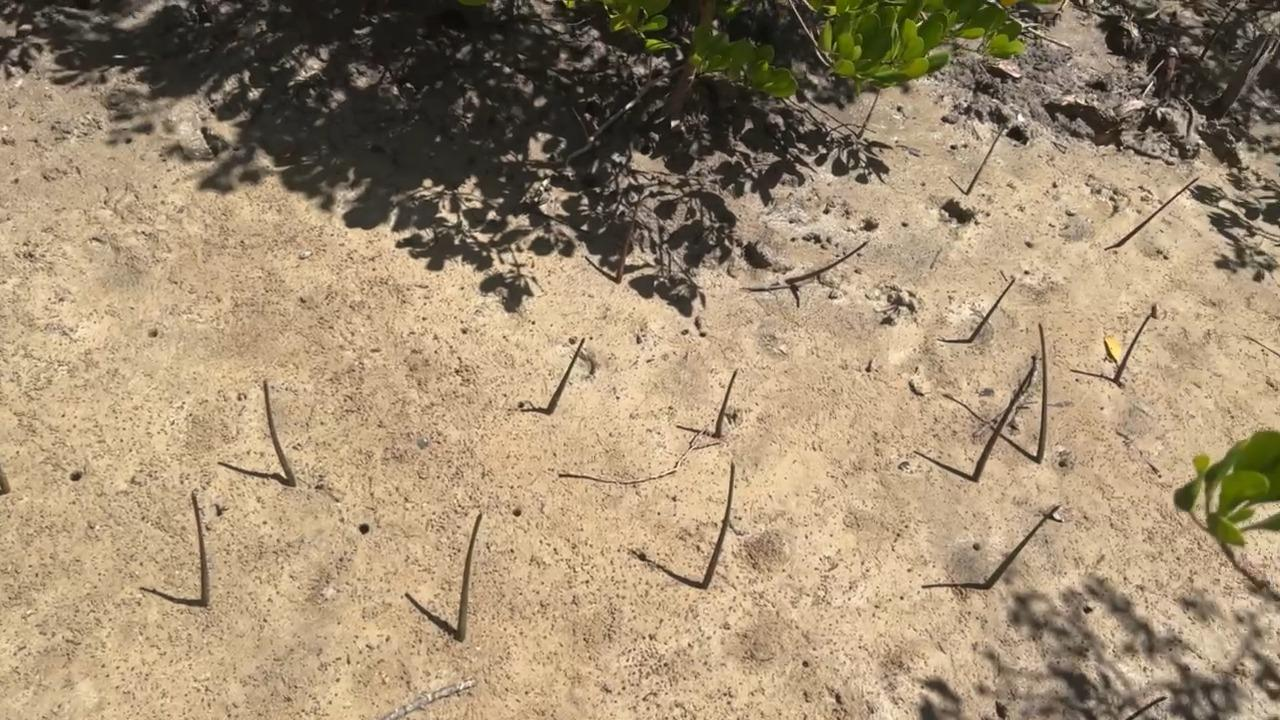Tree: (970, 355, 1039, 482), (981, 504, 1062, 589), (1118, 175, 1201, 247), (699, 462, 737, 590), (785, 238, 871, 285), (262, 377, 298, 488), (1112, 302, 1159, 384), (455, 512, 483, 643), (545, 337, 588, 415), (966, 277, 1016, 344), (965, 122, 1007, 196), (614, 190, 642, 285), (1198, 0, 1239, 64), (190, 490, 211, 608), (713, 367, 741, 438), (1034, 323, 1048, 464), (857, 88, 881, 138), (1124, 695, 1169, 720)
